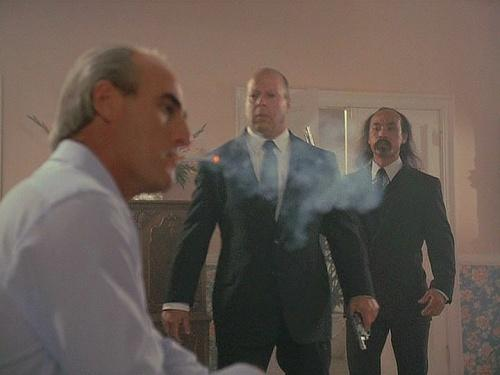Gun: (348, 311, 373, 349)
